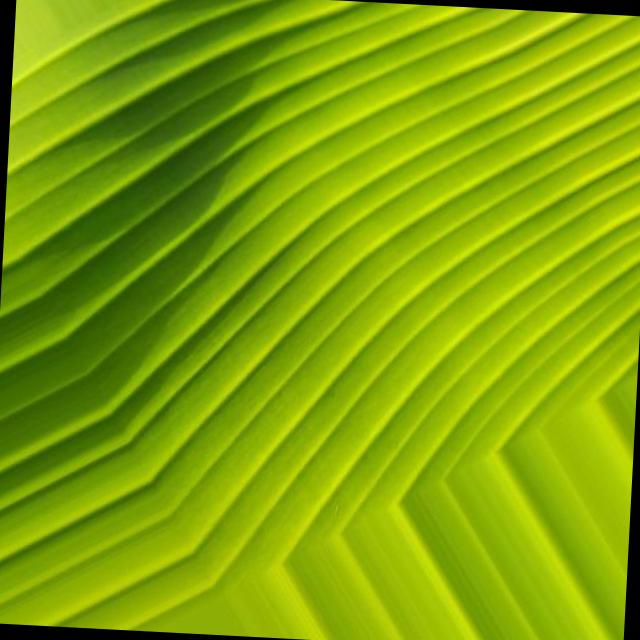Banana_Healthy: (0, 0, 609, 624)
